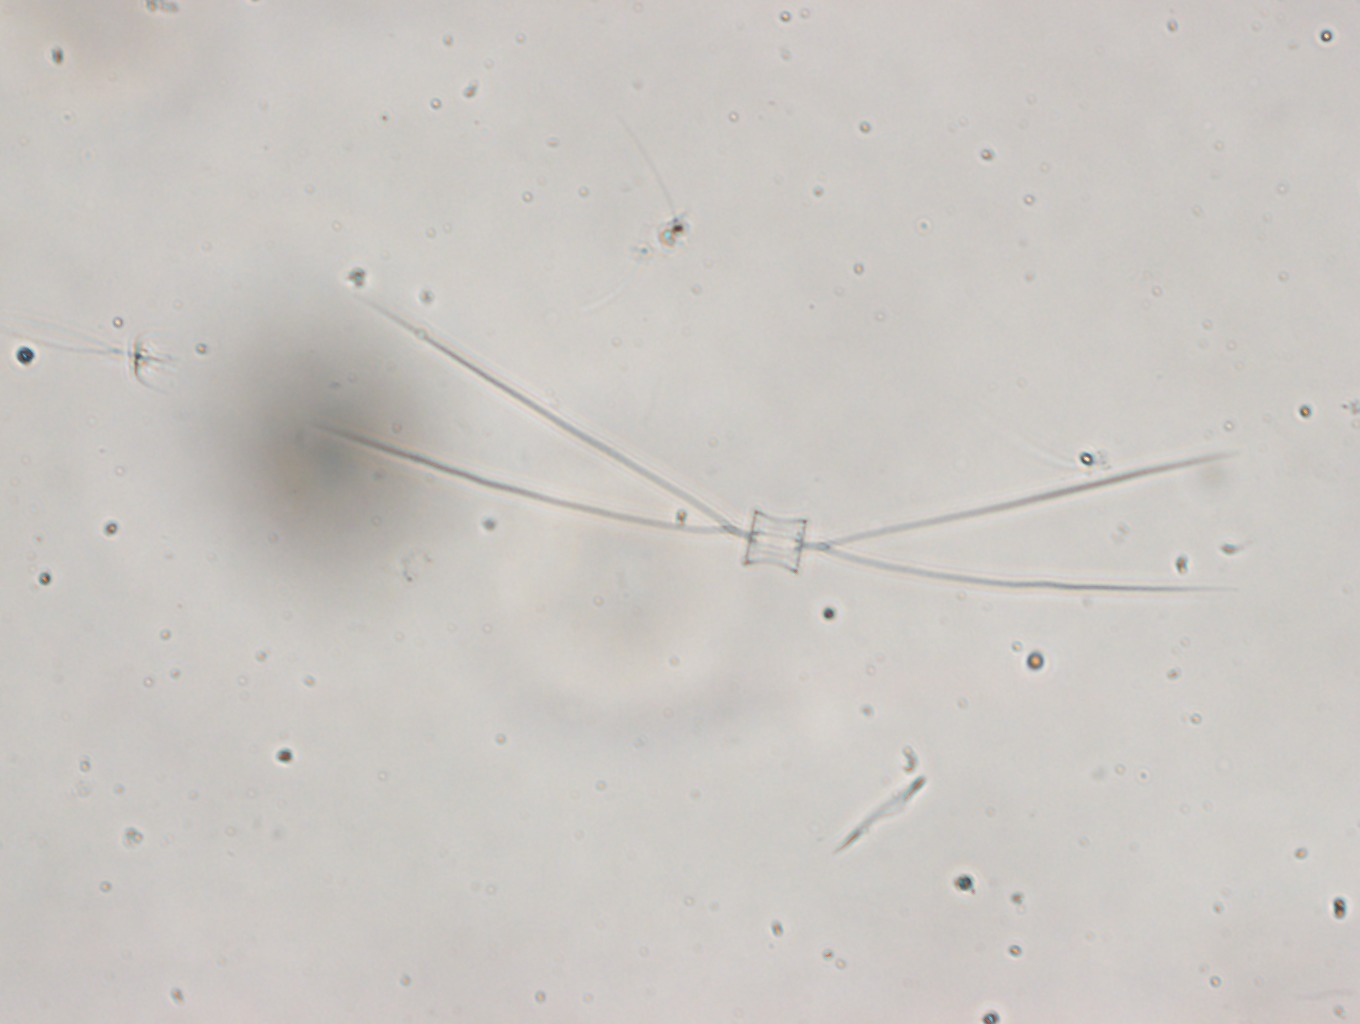chaetoceros: (316, 301, 1234, 596)
